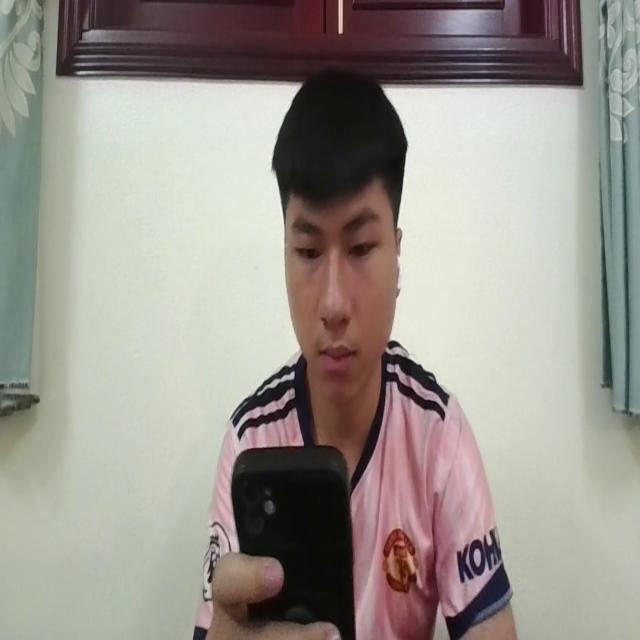phone: (229, 437, 356, 640)
student: (197, 58, 519, 640)
